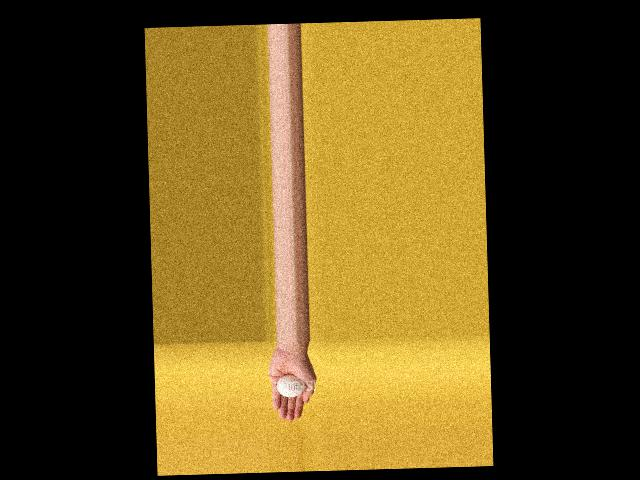egg: (276, 374, 305, 397)
